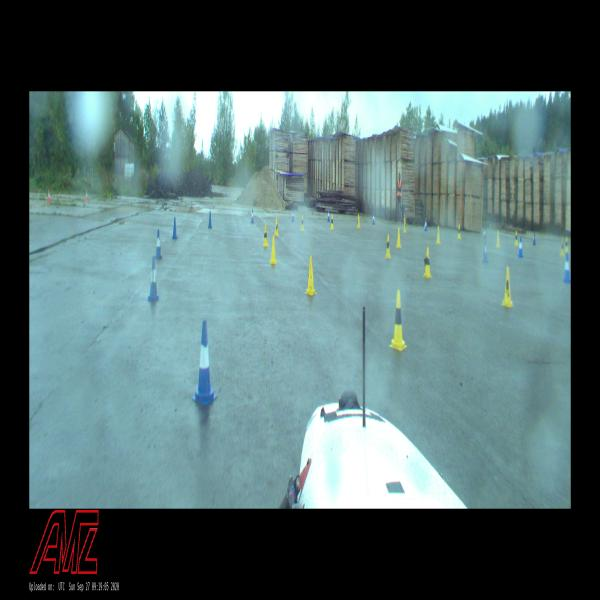blue_cone: (192, 321, 216, 406), (148, 258, 159, 301), (155, 230, 162, 259), (563, 253, 570, 280), (518, 236, 524, 258), (482, 240, 488, 262), (173, 218, 178, 239), (208, 212, 212, 228), (532, 232, 536, 245), (251, 209, 254, 223), (424, 218, 427, 231), (372, 212, 375, 224), (327, 210, 330, 220), (292, 208, 294, 222)
orange_cone: (85, 190, 88, 201), (48, 190, 50, 203)
yellow_cone: (390, 290, 407, 350), (502, 268, 514, 307), (305, 256, 316, 296), (424, 246, 432, 278), (270, 238, 277, 264), (263, 224, 269, 246), (396, 228, 401, 248), (386, 234, 390, 258), (274, 218, 279, 236), (435, 226, 440, 242), (560, 239, 564, 256), (496, 231, 500, 248), (300, 215, 304, 231), (565, 237, 569, 252), (514, 231, 518, 245), (458, 224, 461, 239), (403, 218, 406, 233), (331, 215, 334, 228), (357, 215, 360, 228)
